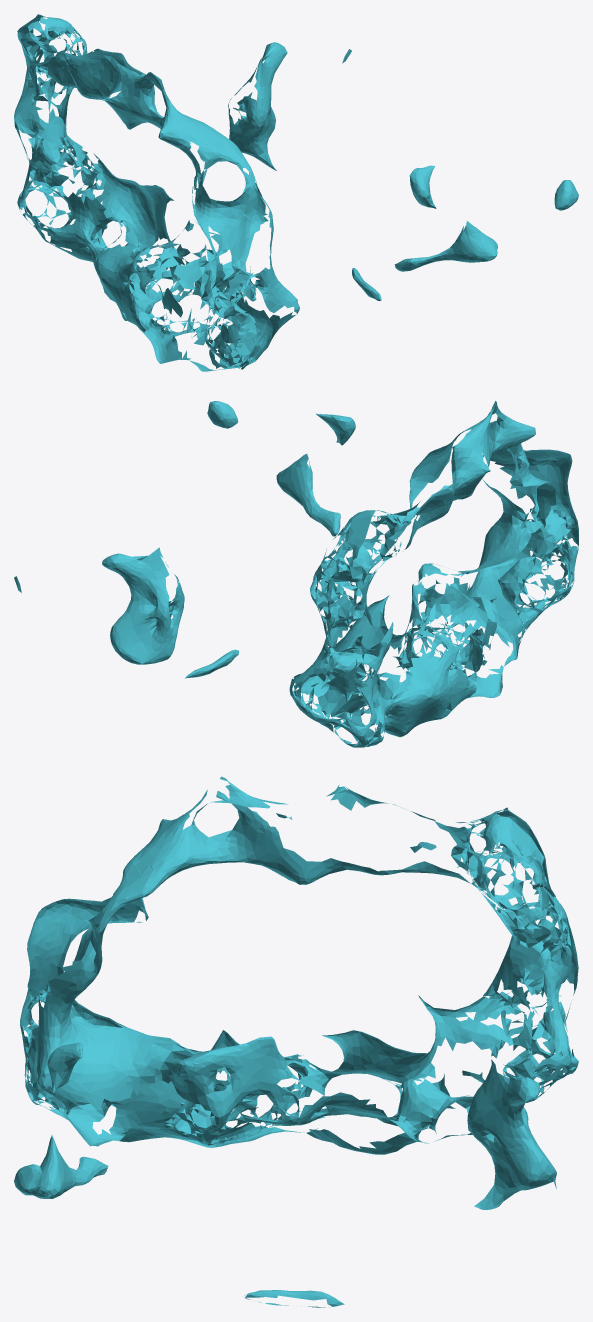
3 renders of one model, top to bottom at view 1: azimuth 30°, elevation 25°; view 2: azimuth 150°, elevation 25°; view 3: azimuth 270°, elevation 25°, orthographic. The views are drawn at different scales.
Visible parts, largest first — view 1: Renderer Node; view 2: Renderer Node; view 3: Renderer Node.
Boxes of the visible parts, x1=… form: Renderer Node: x1=14, y1=14, x2=578, y2=371; Renderer Node: x1=14, y1=401, x2=578, y2=747; Renderer Node: x1=14, y1=776, x2=578, y2=1307.
Bounding box in the file's own units: 2 × 1.52 × 2.06.
1 material, 1 textured.
